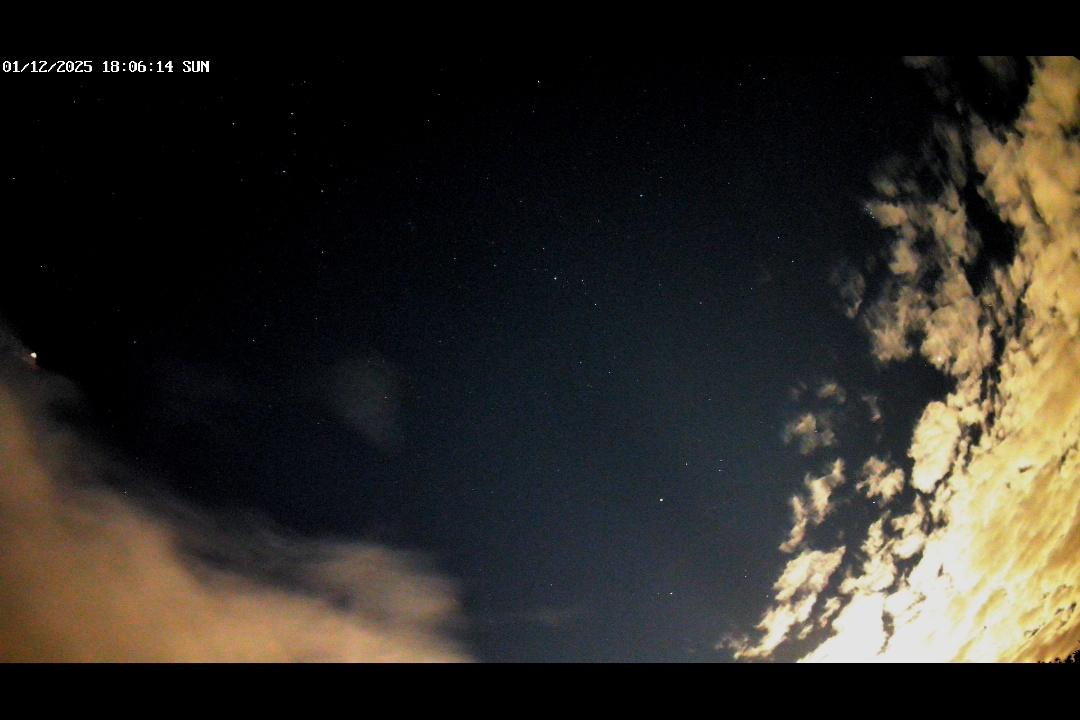Plane: (19, 341, 51, 360)
